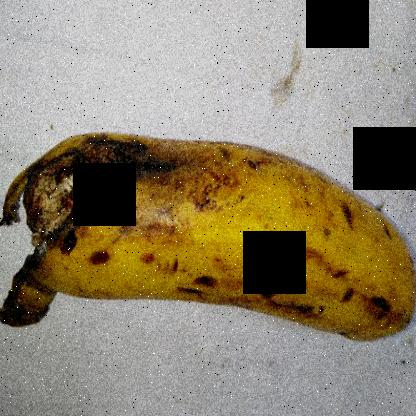rotten: (1, 99, 206, 361)
